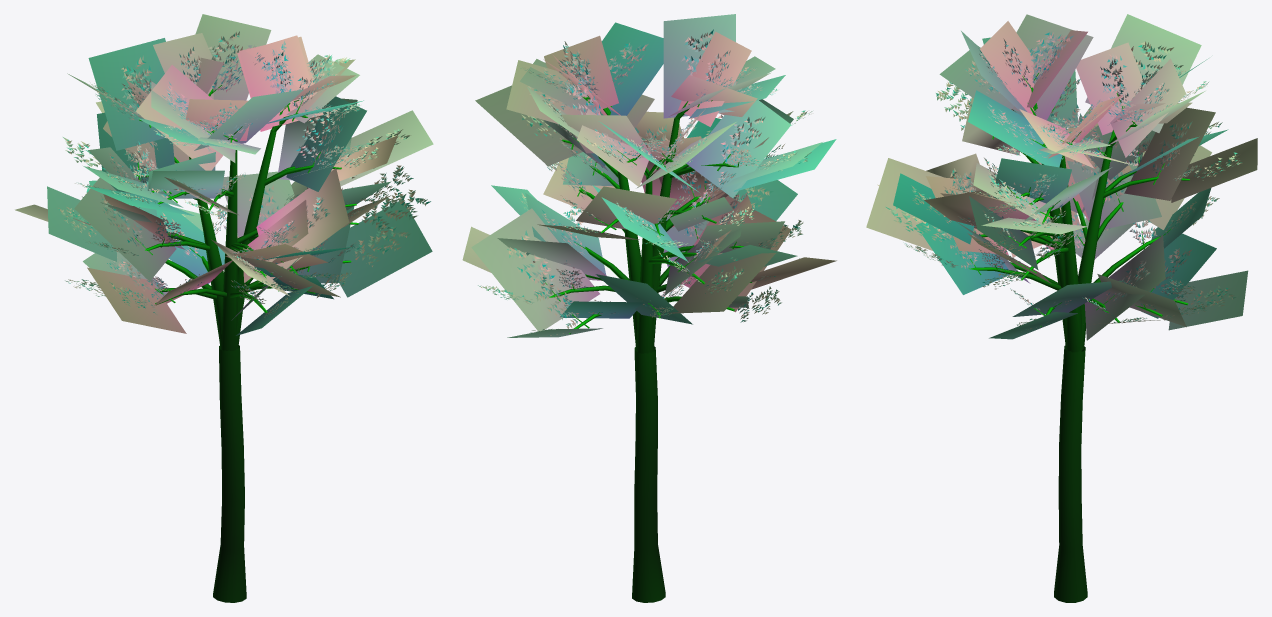
Rendered from hill_b_3.glb.
3 renders of one model, left to right at view 1: azimuth 30°, elevation 25°; view 2: azimuth 150°, elevation 25°; view 3: azimuth 270°, elevation 25°, orthographic.
Visible parts, largest first — view 1: mid, near; view 2: mid, near; view 3: mid, near.
Part boxes in pixels (box(x1,y1,x2,y2)): mid: box(15, 14, 433, 351); near: box(56, 31, 430, 602); mid: box(462, 14, 836, 353); near: box(477, 29, 812, 602); mid: box(866, 14, 1257, 352); near: box(877, 32, 1242, 602).
Bounding box in the file's own units: 7.96 × 12.16 × 7.85.
